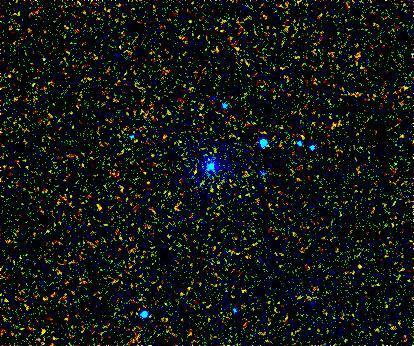star: (151, 179, 181, 209)
